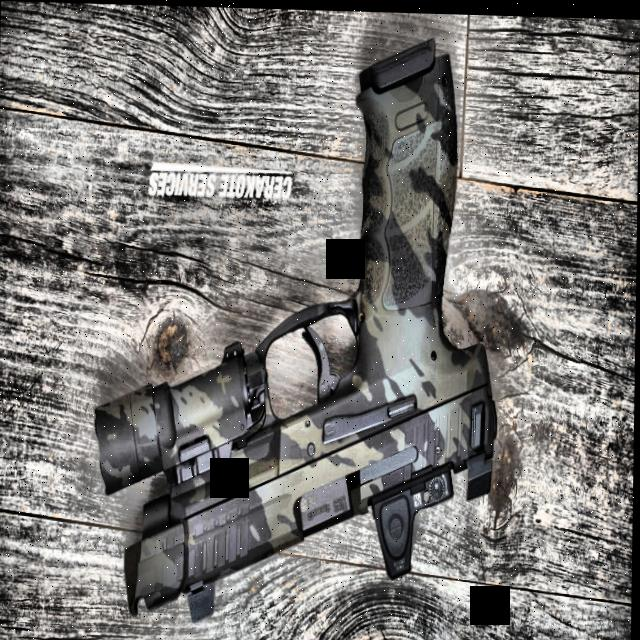HKVP9: (91, 26, 504, 630)
